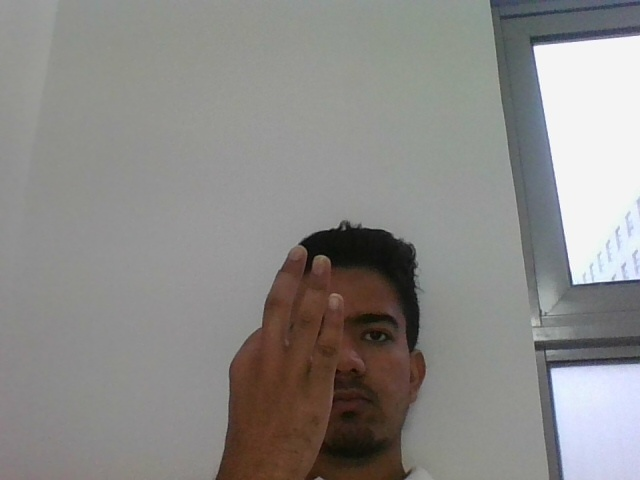ok: (218, 241, 344, 455)
